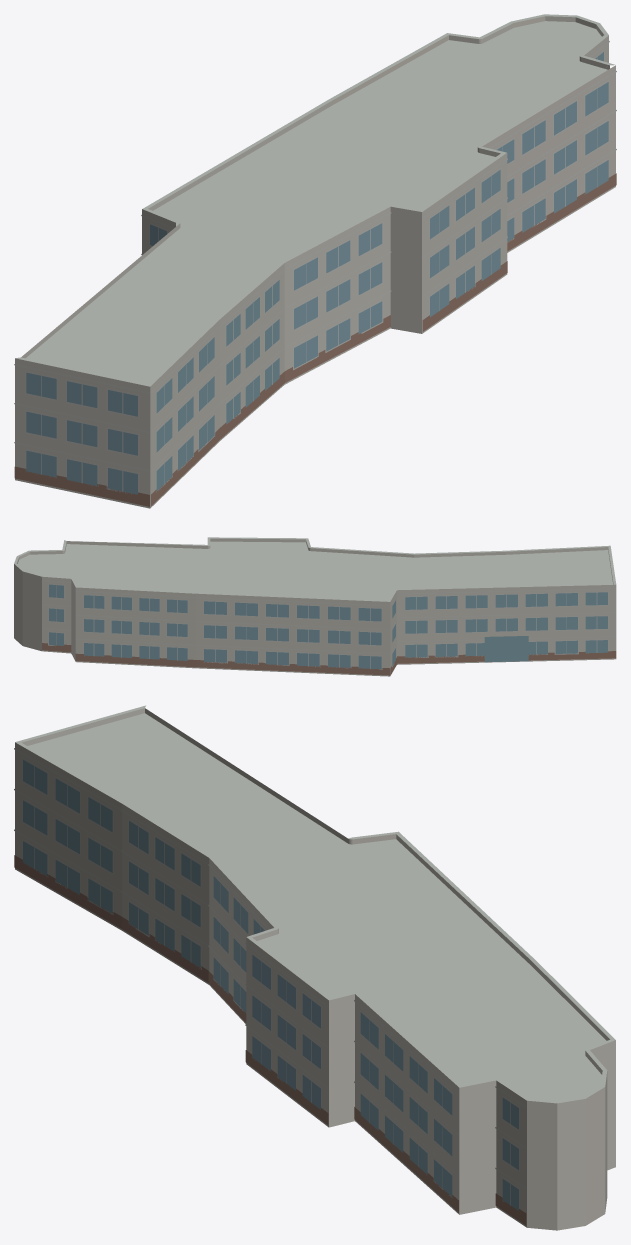
File: public-4d543ca8-c871-4c3a-8692-201b0a51b535.glb
3 views of the same model, one above another, from view 1: azimuth 30°, elevation 25°; view 2: azimuth 150°, elevation 25°; view 3: azimuth 270°, elevation 25° (orthographic). The views are drawn at different scales.
Parts seen in each view (by area): view 1: public-4d543ca8-c871-4c3a-8692-201b0a51b535; view 2: public-4d543ca8-c871-4c3a-8692-201b0a51b535; view 3: public-4d543ca8-c871-4c3a-8692-201b0a51b535.
Part boxes in pixels (left/top/right/bottom): public-4d543ca8-c871-4c3a-8692-201b0a51b535: left=14, top=14, right=616, bottom=508; public-4d543ca8-c871-4c3a-8692-201b0a51b535: left=14, top=537, right=616, bottom=676; public-4d543ca8-c871-4c3a-8692-201b0a51b535: left=14, top=705, right=615, bottom=1230.
Bounding box in the file's own units: 61.49 × 9.15 × 39.33.
